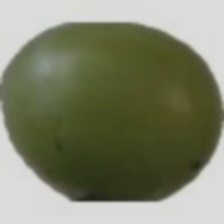grapes: (22, 35, 205, 224)
